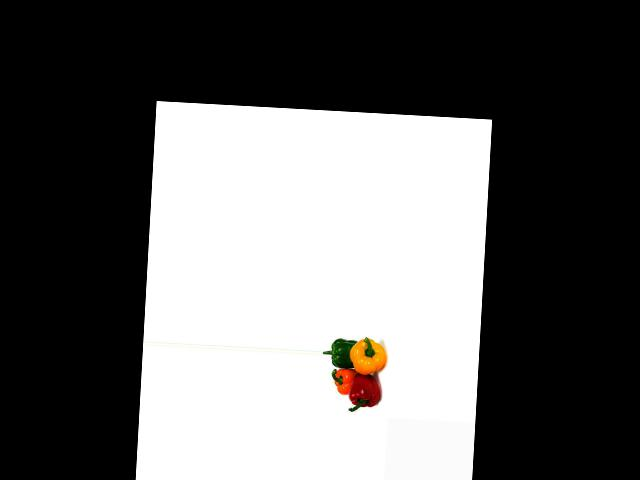bell_pepper: (348, 334, 388, 377)
